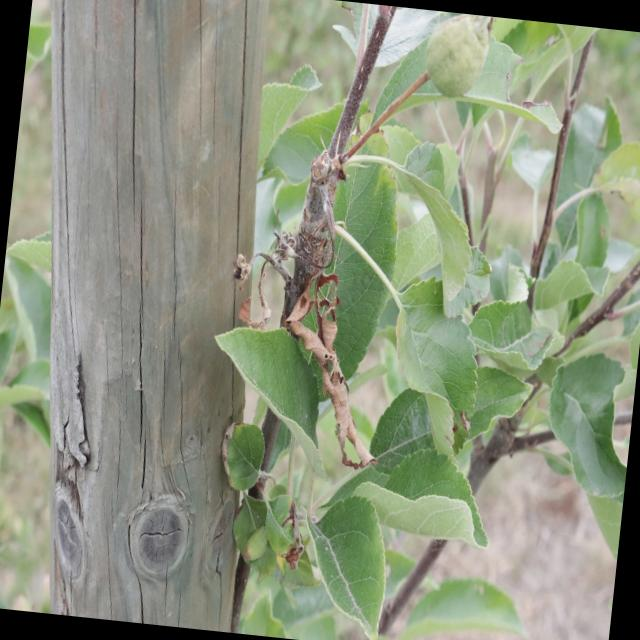-FireBlight-: (262, 240, 393, 470)
